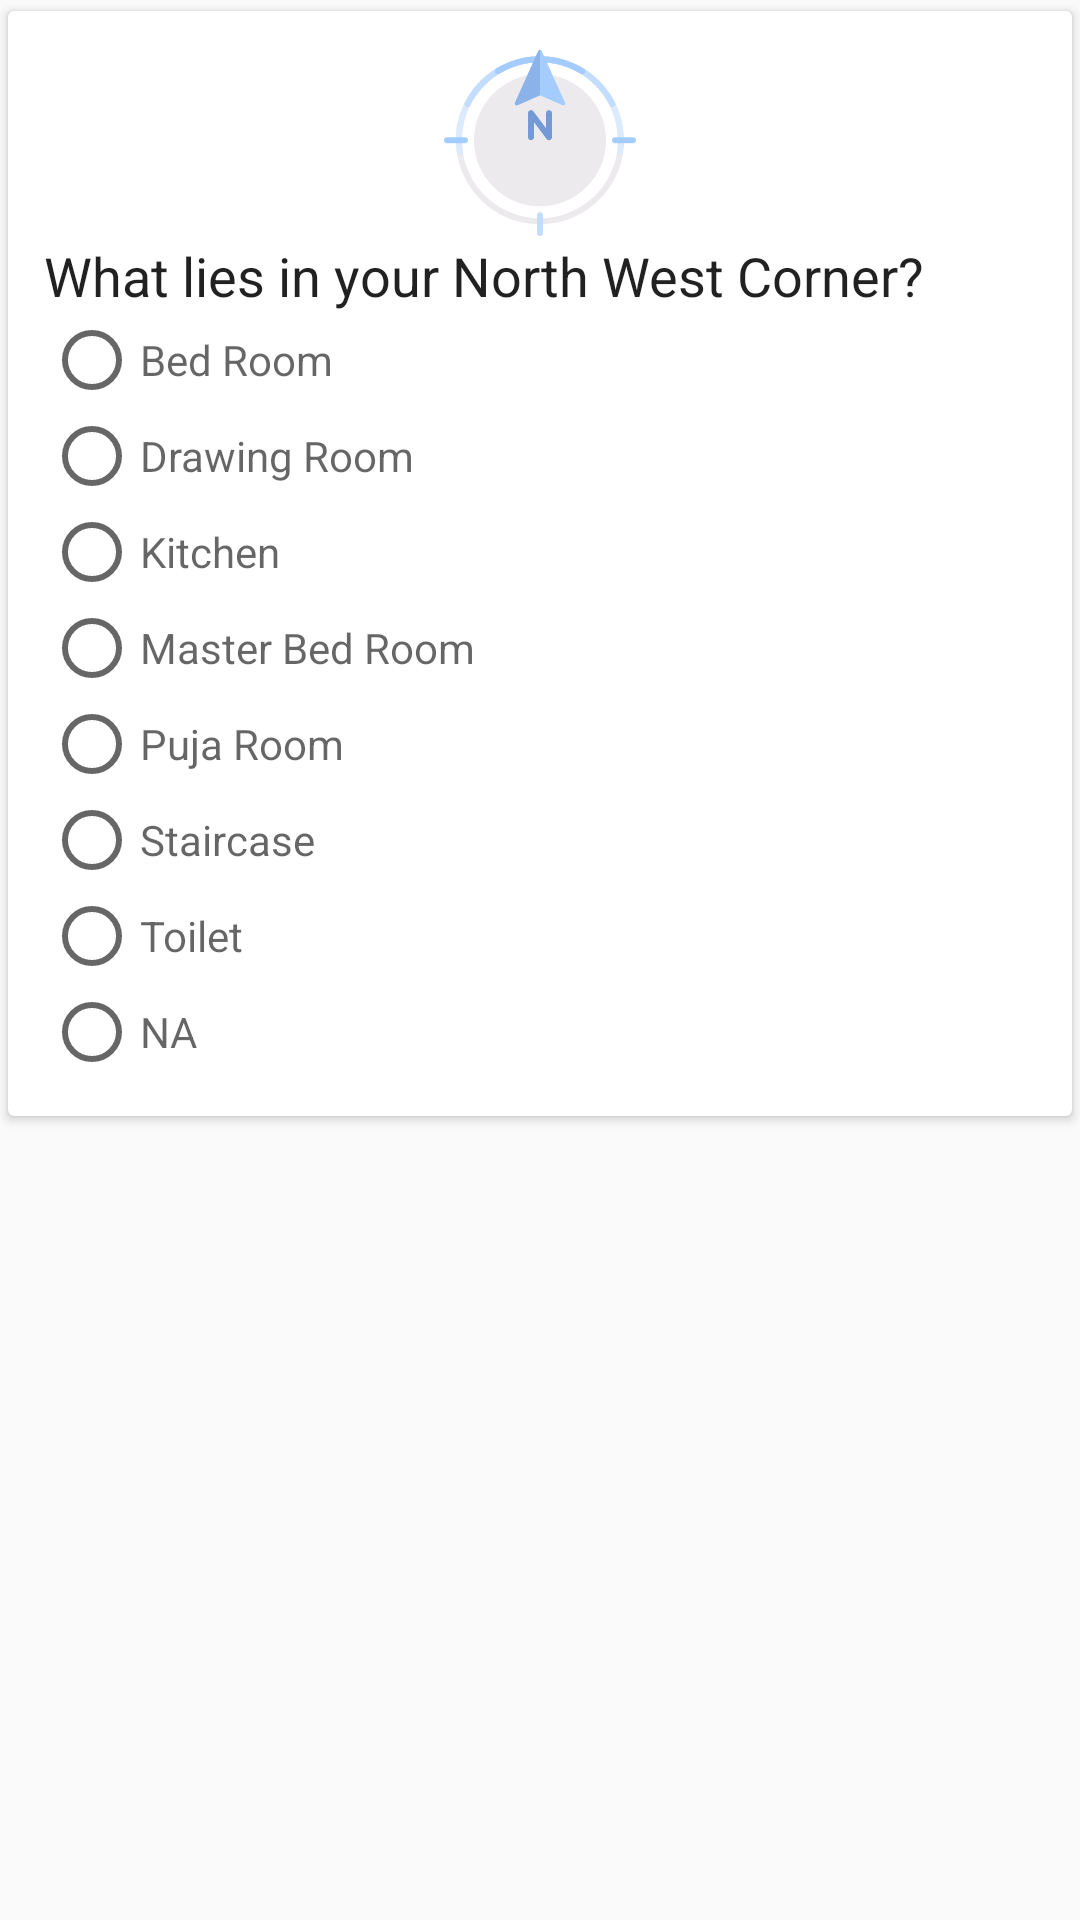

Screen size 1080px×1920px. Icon name, then its box in pixels as [x1,y1,x2,y2]:
compass: [444,50,636,236]
